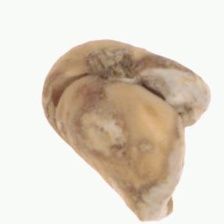L1: (83, 44, 148, 82), (135, 195, 177, 223)
L2: (41, 38, 211, 222)
